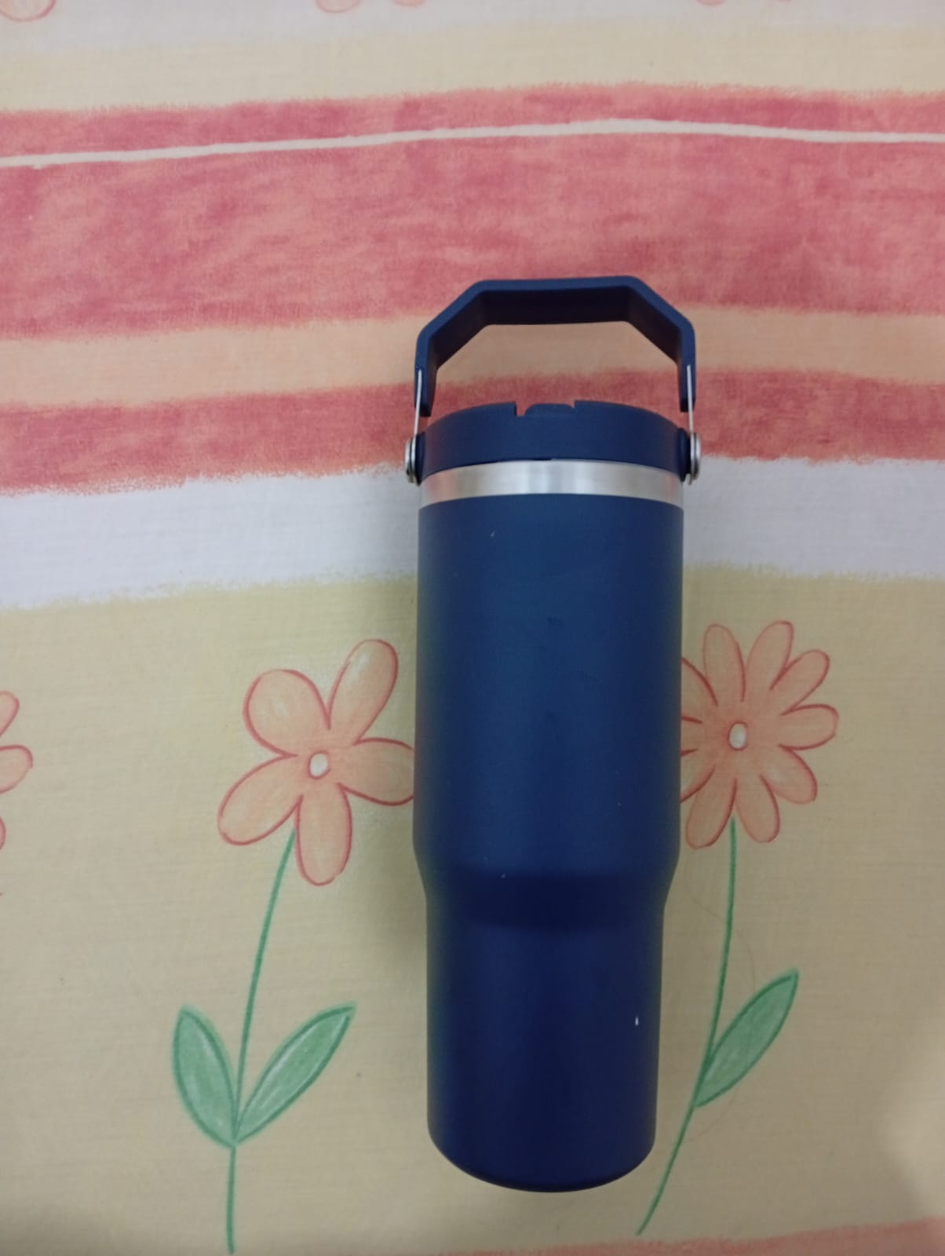Tupperware: (343, 258, 752, 1198)
